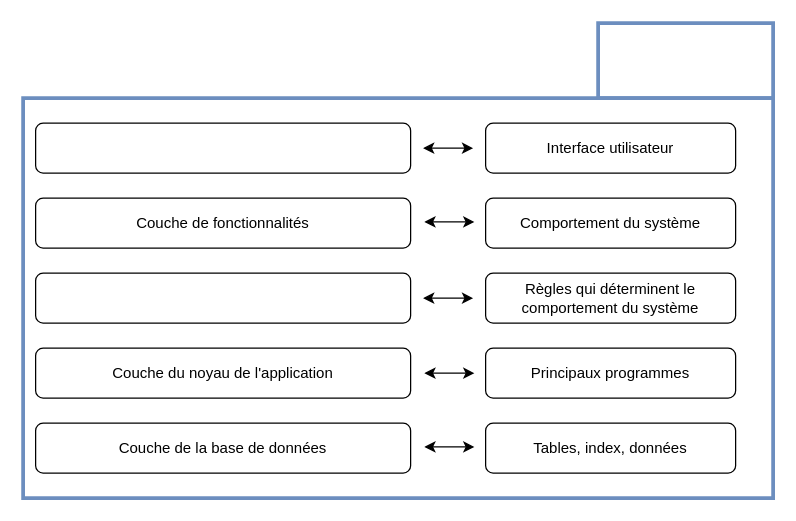
Some shapes in this 796 by 521 pixel diagram are drawn without their labels. The centre of each missing label's shape, as x and y in pixels:
"Client lourd d'édition" belongs at point (685, 60).
"Couche d'interaction avec le créateur de contenu" belongs at point (222, 147).
"Couche des règles de gestion" belongs at point (222, 297).
